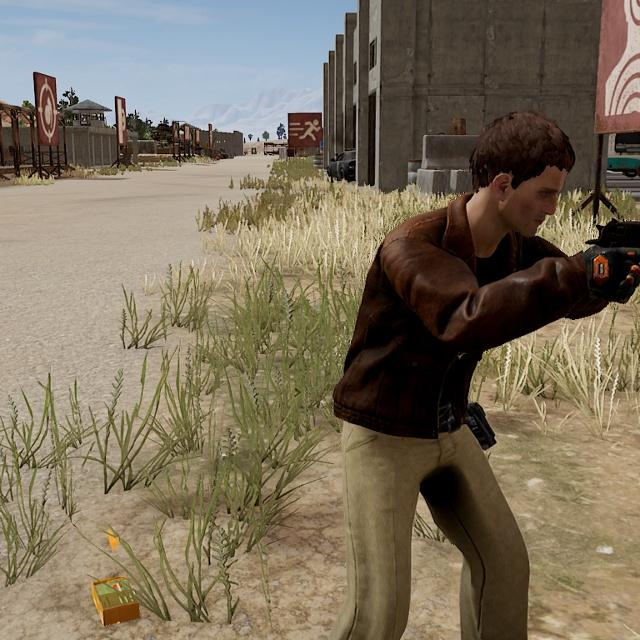head: (467, 99, 579, 241)
people: (315, 100, 624, 640)
